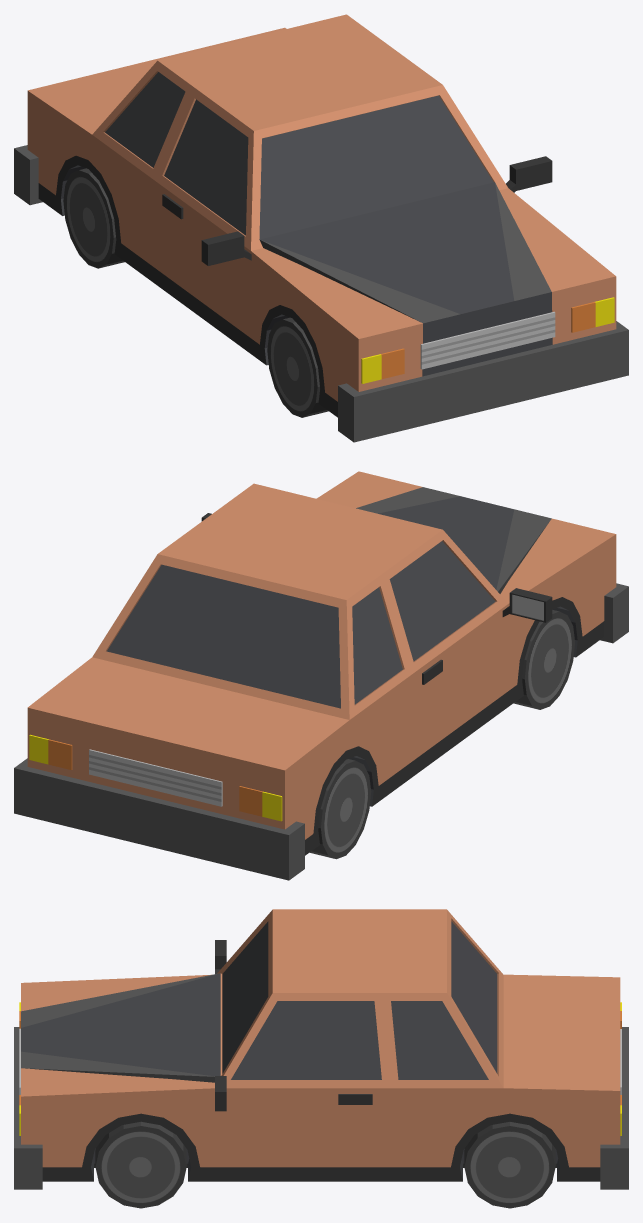
The model's file is car02_color03.fbx.
The picture shows the model from 3 angles, top to bottom: view 1: azimuth 30°, elevation 25°; view 2: azimuth 150°, elevation 25°; view 3: azimuth 270°, elevation 25°; orthographic projection. The views are drawn at different scales.
Parts seen in each view (by area): view 1: Cube.504, Cube.508, Cube.505; view 2: Cube.504, Cube.508, Cube.505; view 3: Cube.504, Cube.507, Cube.506.
Boxes of the visible parts, x1,y1,x2,y2 form: Cube.504: (14, 14, 628, 442); Cube.508: (63, 168, 124, 268); Cube.505: (267, 317, 328, 417); Cube.504: (14, 471, 628, 880); Cube.508: (310, 759, 371, 859); Cube.505: (513, 610, 574, 709); Cube.504: (14, 909, 628, 1189); Cube.507: (95, 1121, 186, 1208); Cube.506: (464, 1122, 555, 1208).
Size of the model in its own units: 267 by 165 by 457.
